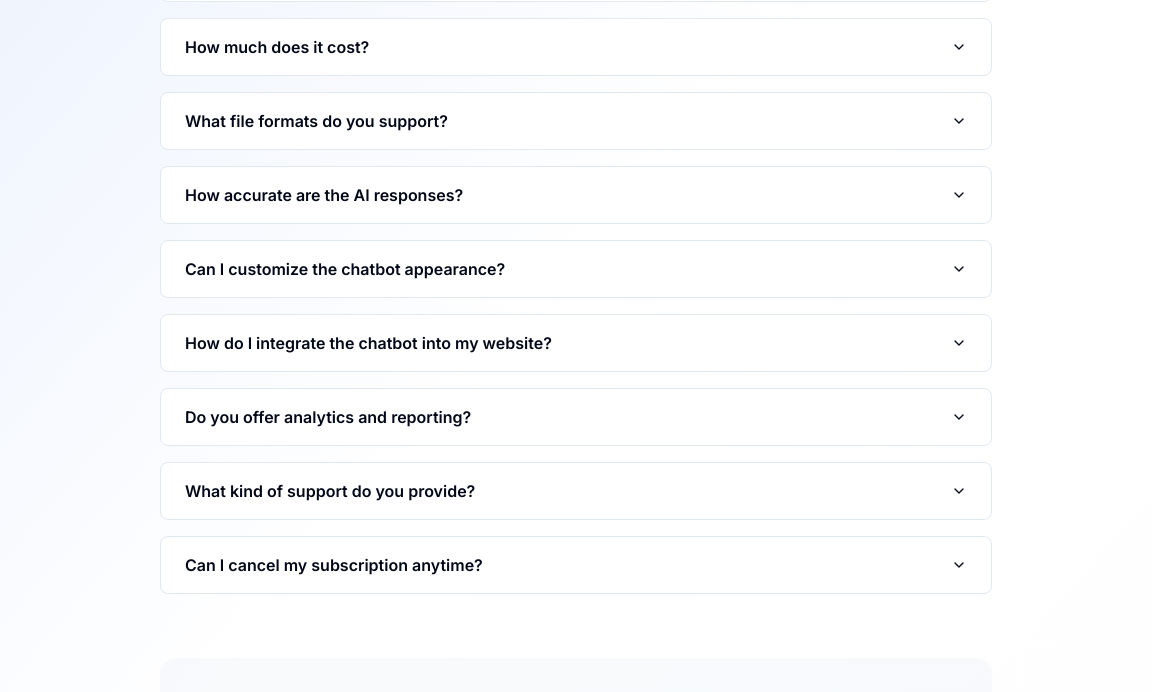
Scenario: FAQ › should display integration FAQ
(page scrolled)
Click the button "How do I integrate the chatbot into my website?". click: (368, 343)
box: [185,315,967,371]
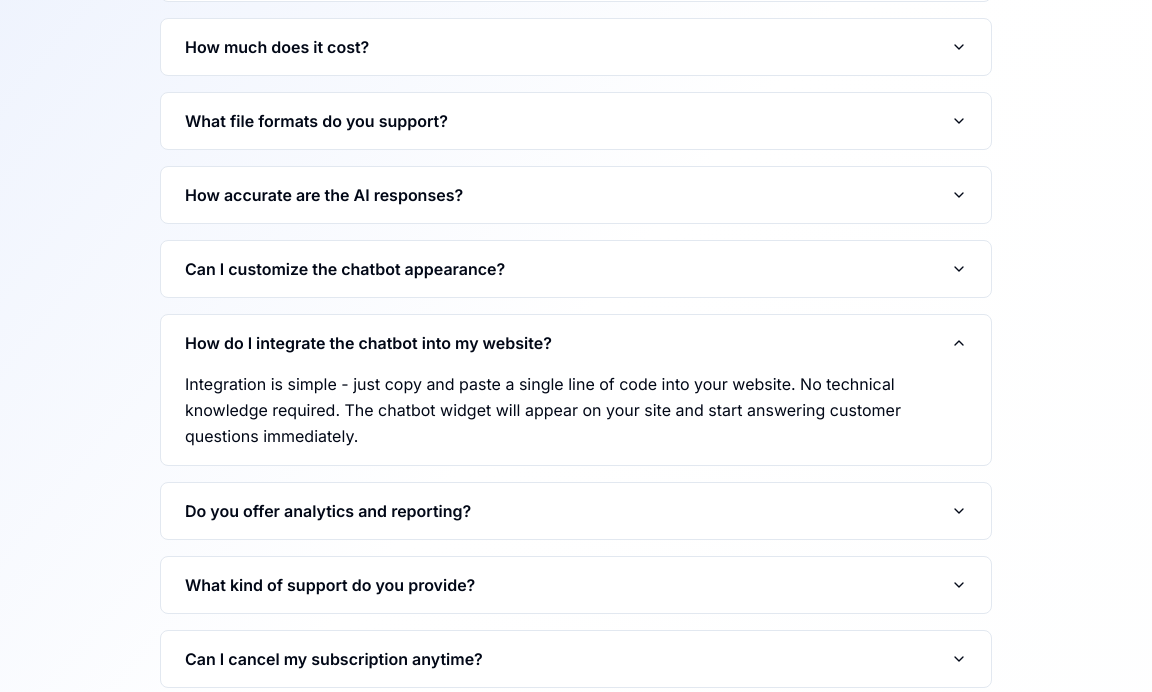
Now the text "Integration is simple - just copy and paste a single line of code into your website. No technical knowledge required. Th" is shown, box [185,374,901,446]
